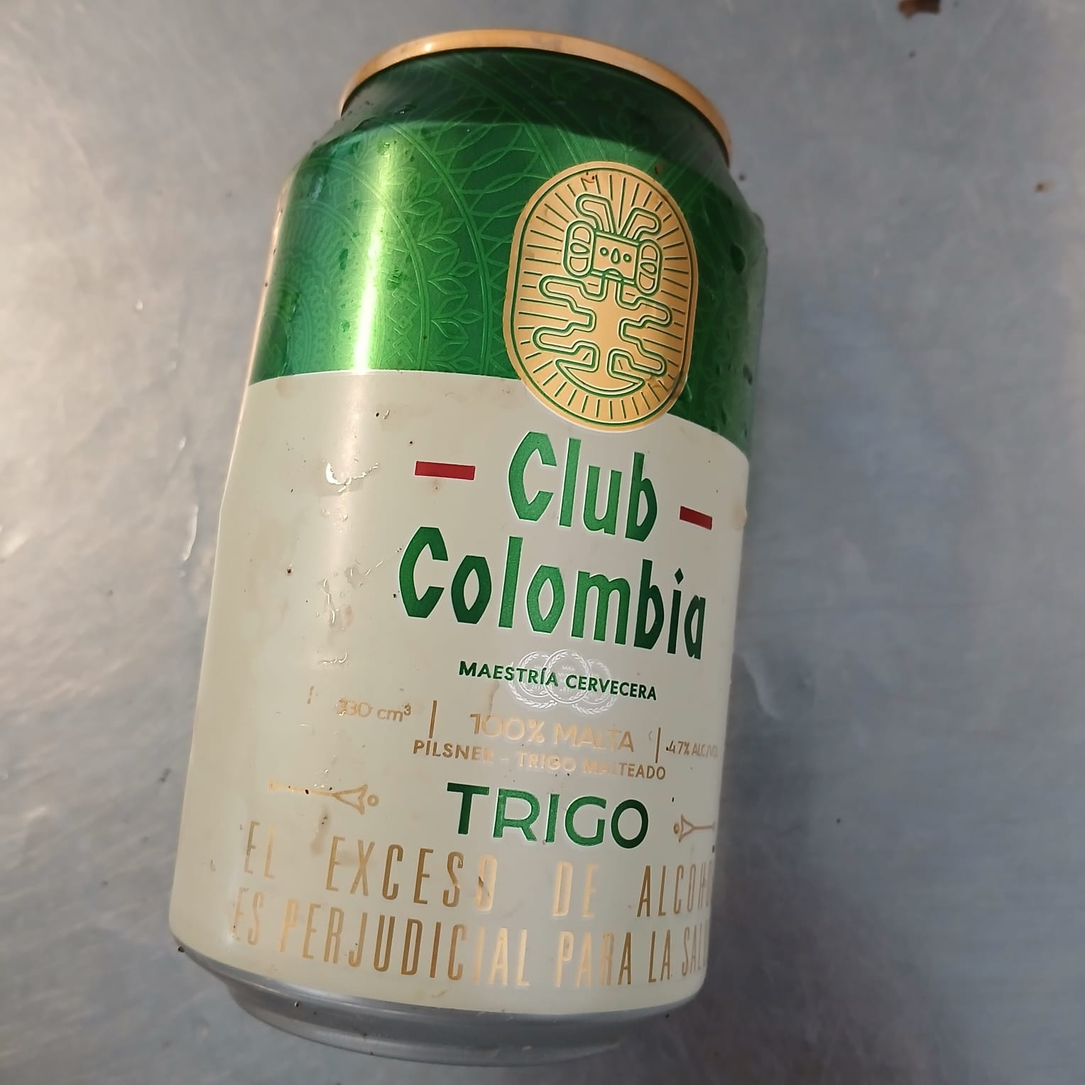Metal: (171, 30, 763, 1070)
